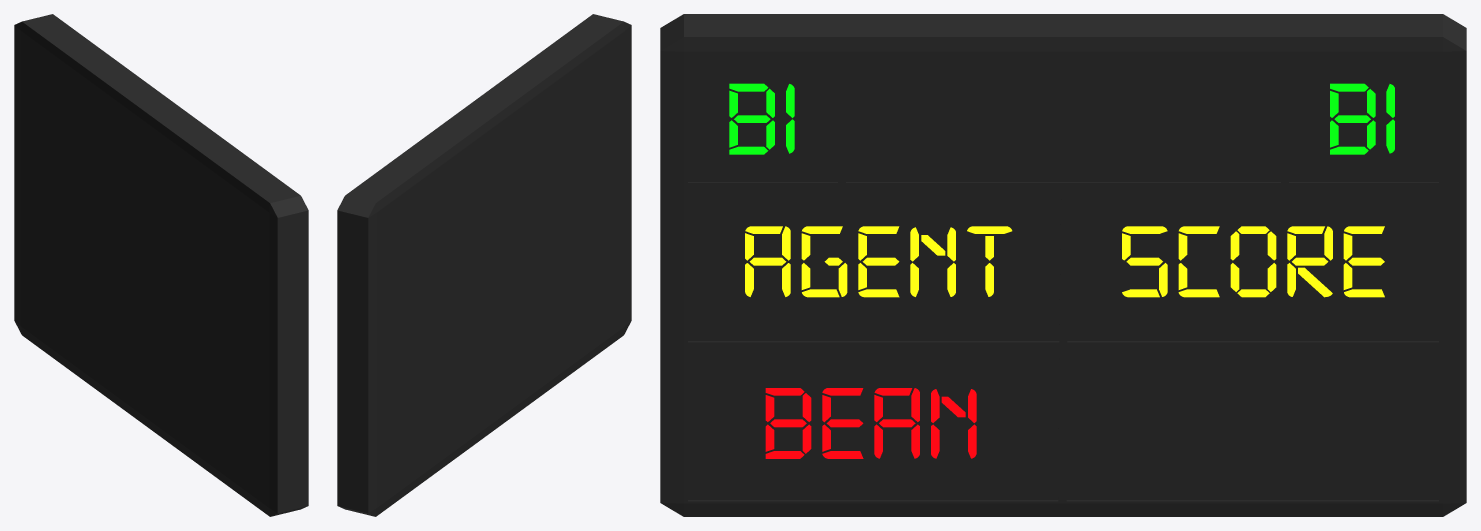
Rendered from scoreBoard.fbx.
3 renders of one model, left to right at view 1: azimuth 30°, elevation 25°; view 2: azimuth 150°, elevation 25°; view 3: azimuth 270°, elevation 25°, orthographic. The views are drawn at different scales.
Visible parts, largest first — view 1: Cube; view 2: Cube; view 3: Cube, Text.002, Text.001, Text.003, Text.004, Text.005.
Part boxes in pixels (<box>): Cube: <box>14,14,308,516</box>; Cube: <box>337,14,631,516</box>; Cube: <box>660,14,1466,516</box>; Text.002: <box>1122,226,1384,297</box>; Text.001: <box>745,226,1012,297</box>; Text.003: <box>765,388,976,458</box>; Text.004: <box>729,83,794,154</box>; Text.005: <box>1330,83,1394,154</box>.
Bounding box in the file's own units: 55.56 × 507 × 773.
